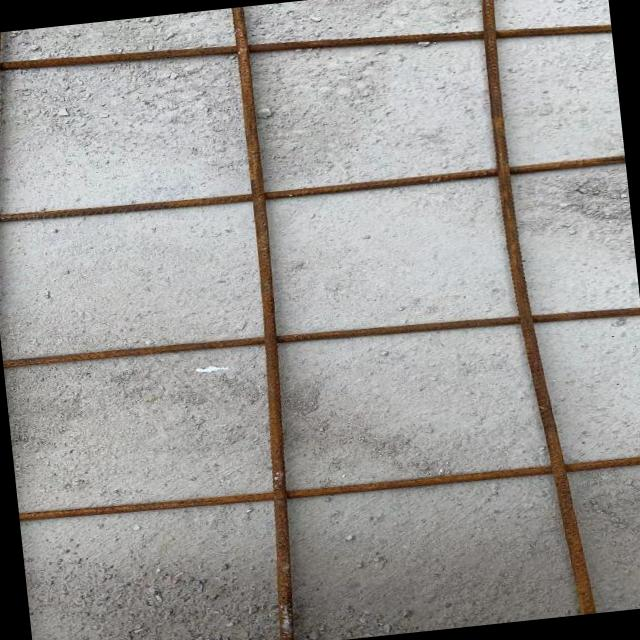ribbed bar: (464, 0, 595, 618), (212, 6, 317, 640), (0, 0, 611, 101), (2, 292, 640, 382), (18, 443, 640, 531), (0, 146, 625, 232), (0, 32, 26, 256)
